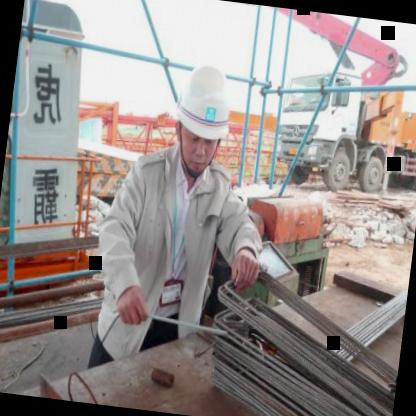helmet: (167, 52, 239, 178)
